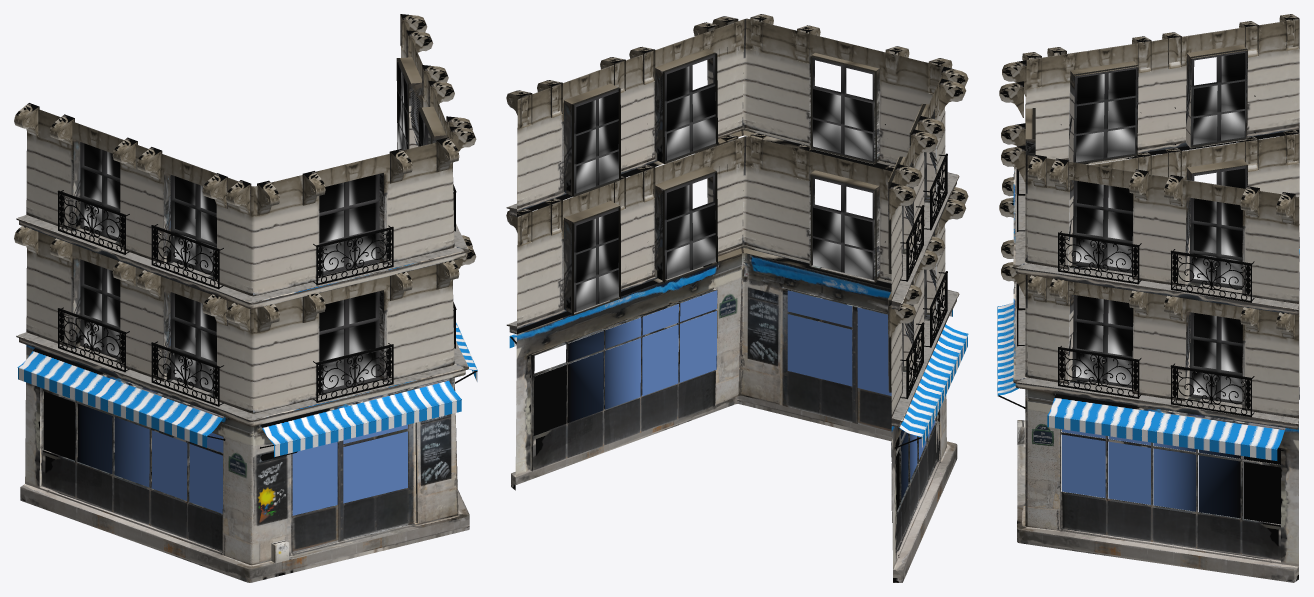
The model's file is ENV_Glacier_02.fbx.
3 views of the same model, side by side, from view 1: azimuth 30°, elevation 25°; view 2: azimuth 150°, elevation 25°; view 3: azimuth 270°, elevation 25° (orthographic). The views are drawn at different scales.
Parts seen in each view (by area): view 1: ENV_Glacier_02; view 2: ENV_Glacier_02; view 3: ENV_Glacier_02.
Boxes of the visible parts, <box> form: ENV_Glacier_02: <box>14,14,477,582</box>; ENV_Glacier_02: <box>506,14,968,582</box>; ENV_Glacier_02: <box>997,14,1299,582</box>.
Size of the model in its own units: 1358 by 1235 by 881.
